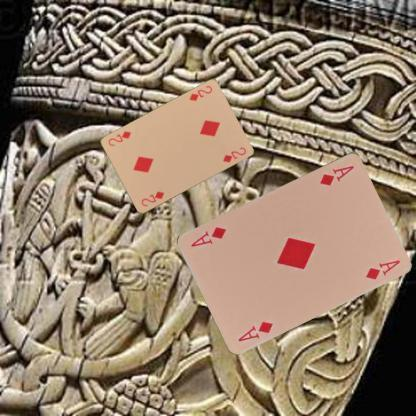2d: (139, 189, 165, 208), (187, 83, 213, 102)
Ad: (235, 317, 276, 343), (318, 162, 355, 187)
